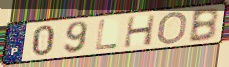0: (31, 24, 58, 57)
9: (61, 20, 89, 55)
B: (187, 6, 220, 44)
H: (123, 13, 158, 49)
L: (94, 19, 118, 52)
O: (155, 11, 189, 46)
